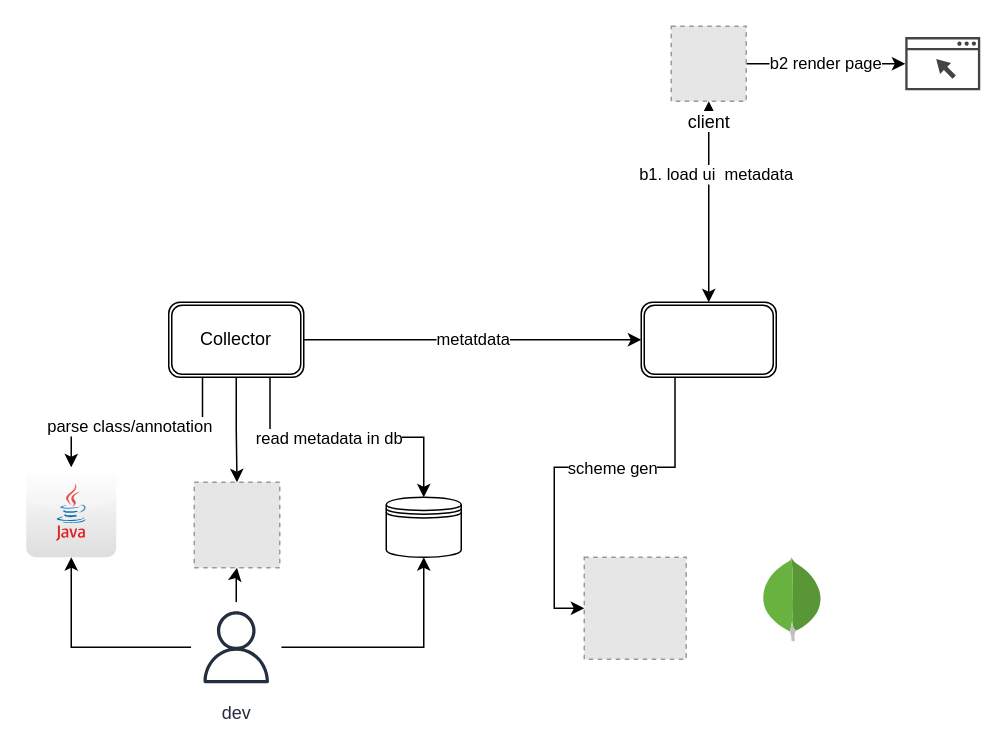
Image size: 1007x750. Some labels were removed from this diagram. Grey dashed boxes stand in for pictures. Each missing label, with the centre of its shape:
Mongo: the point at 791,599
sf runtime: the point at 708,339
